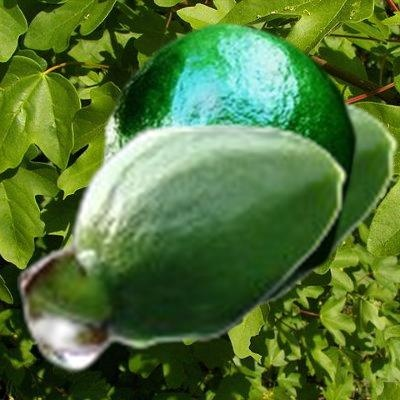guava: (17, 120, 347, 372), (101, 20, 358, 340), (255, 93, 398, 312)
